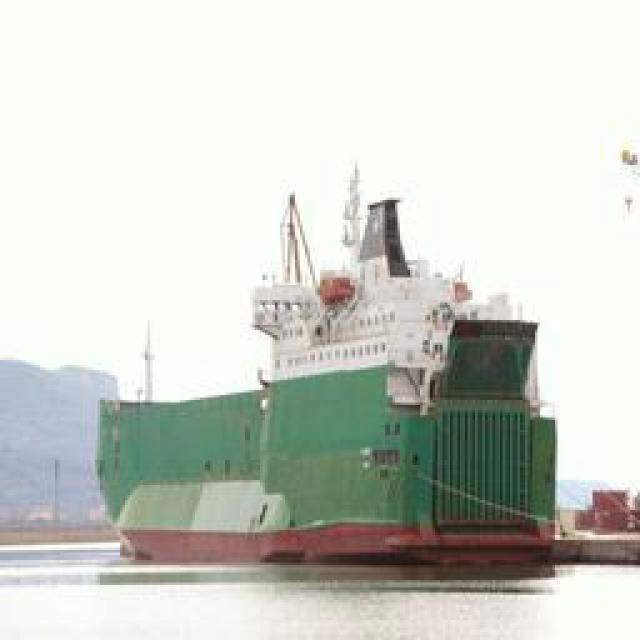Ship: (87, 194, 553, 564)
